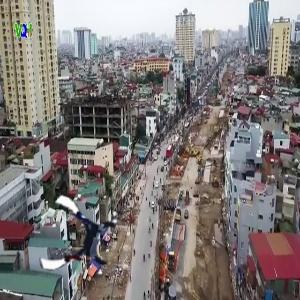drone: (39, 200, 120, 281)
